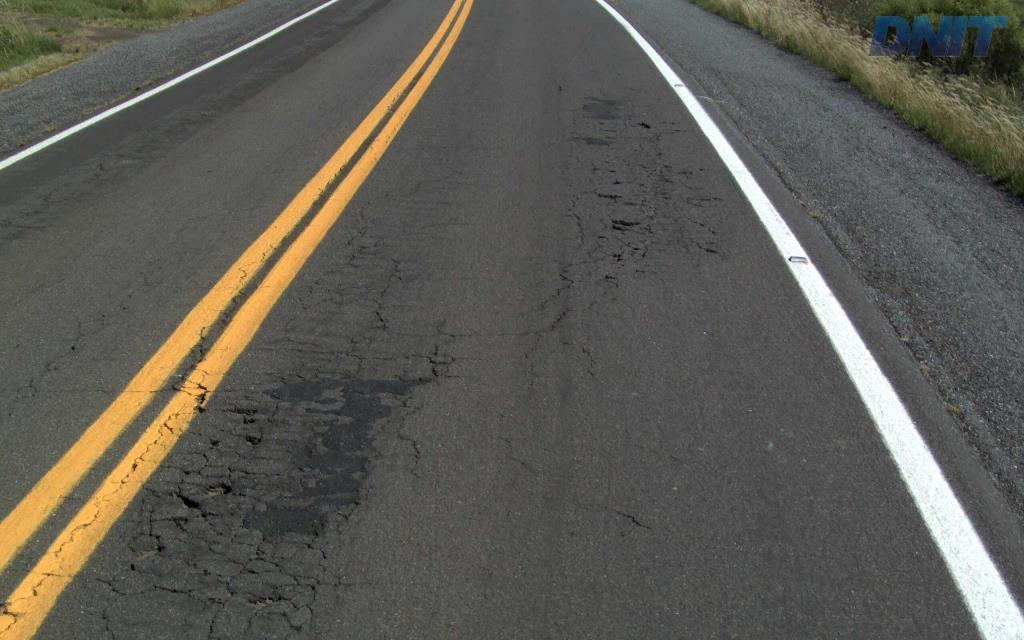crack: (262, 501, 328, 538), (167, 485, 222, 521)
